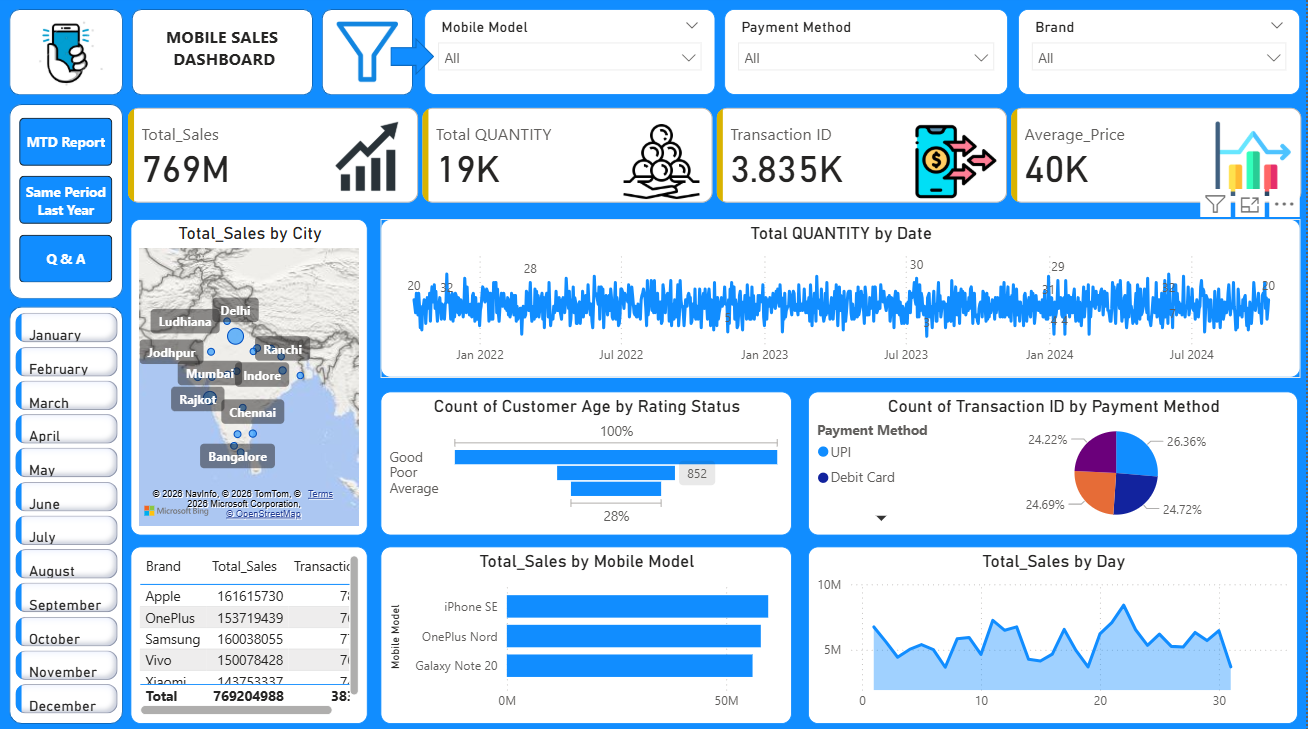

Layout of this report page (visuals, bound fields, positions):
{"tool":"powerbi","page":{"name":"Dashboard","canvas":[1280,720],"ordinal":0},"visuals":[{"type":"shape","box":[11,9.8,111.3,84.4],"z":0},{"type":"image","box":[20.8,9.8,91.7,91.7],"z":1000},{"type":"shape","box":[11,102.7,111.3,190.8],"z":2000},{"type":"shape","box":[11,300.8,111.3,408.4],"z":3000},{"type":"advancedSlicerVisual","fields":{"Values":["Custom Calender.Date.Variation.Date Hierarchy.Month"]},"box":[12.2,302,110.1,407.2],"z":4000},{"type":"cardVisual","fields":{"Data":["Sales_Data.Total_Sales","Sales_Data.Total QUANTITY","CountNonNull(Sales_Data.Transaction ID)","Sales_Data.Average_Price"]},"box":[122.3,101.5,1158,103.9],"z":5000},{"type":"slicer","fields":{"Values":["Sales_Data.Mobile Model"]},"box":[417,9.8,284.9,84.4],"z":6000},{"type":"slicer","fields":{"Values":["Sales_Data.Brand"]},"box":[997.8,9.8,276.4,84.4],"z":7000},{"type":"slicer","fields":{"Values":["Sales_Data.Payment Method"]},"box":[710.5,9.8,277.6,84.4],"z":8000},{"type":"shape","box":[316.7,9.8,89.3,84.4],"z":9000},{"type":"image","box":[326.5,0,69.7,102.7],"z":10000},{"type":"shape","box":[384,37.9,42.8,36.7],"z":11000},{"type":"shape","box":[130.8,9.8,177.3,84.4],"z":12000},{"type":"textbox","box":[144.3,20.8,154.1,64.8],"z":13000},{"type":"map","fields":{"Category":["Sales_Data.City"],"Size":["Sales_Data.Total_Sales"]},"box":[129.6,215.2,232.3,309.4],"z":14000},{"type":"lineChart","fields":{"Y":["Sales_Data.Total QUANTITY"],"Category":["Sales_Data.Date"]},"box":[374.2,215.2,900,155.3],"z":15000},{"type":"funnel","fields":{"Y":["CountNonNull(Sales_Data.Customer Age)"],"Category":["Sales_Data.Rating Status"]},"box":[374.2,384,402.3,140.6],"z":16000},{"type":"pieChart","fields":{"Y":["CountNonNull(Sales_Data.Transaction ID)"],"Category":["Sales_Data.Payment Method"]},"box":[792.4,384,479.4,140.6],"z":17000},{"type":"clusteredBarChart","fields":{"Y":["Sales_Data.Total_Sales"],"Category":["Sales_Data.Mobile Model"]},"box":[374.2,535.6,402.3,173.6],"z":18000},{"type":"areaChart","fields":{"Y":["Sales_Data.Total_Sales"],"Category":["Custom Calender.Date.Variation.Date Hierarchy.Day"]},"box":[792.4,535.6,479.4,173.6],"z":19000},{"type":"tableEx","fields":{"Values":["Sales_Data.Brand","Sales_Data.Total_Sales","CountNonNull(Sales_Data.Transaction ID)"]},"box":[129.6,535.6,232.3,173.6],"z":20000},{"type":"pageNavigator","box":[20.8,116.2,91.7,163.9],"z":20001}]}

Visuals, with their boxes in screenshot pixels (x1, y1, x2, y2), scaled from the page's 1280x720 canvas onto the 1308x729 screenshot:
shape: [x1=11, y1=10, x2=125, y2=95]
image: [x1=21, y1=10, x2=115, y2=103]
shape: [x1=11, y1=104, x2=125, y2=297]
shape: [x1=11, y1=305, x2=125, y2=718]
advancedSlicerVisual - Custom Calender.Date.Variation.Date Hierarchy.Month: [x1=12, y1=306, x2=125, y2=718]
cardVisual - Sales_Data.Total_Sales x Sales_Data.Total QUANTITY: [x1=125, y1=103, x2=1307, y2=208]
slicer - Sales_Data.Mobile Model: [x1=426, y1=10, x2=717, y2=95]
slicer - Sales_Data.Brand: [x1=1020, y1=10, x2=1302, y2=95]
slicer - Sales_Data.Payment Method: [x1=726, y1=10, x2=1010, y2=95]
shape: [x1=324, y1=10, x2=415, y2=95]
image: [x1=334, y1=0, x2=405, y2=104]
shape: [x1=392, y1=38, x2=436, y2=76]
shape: [x1=134, y1=10, x2=315, y2=95]
textbox: [x1=147, y1=21, x2=305, y2=87]
map - Sales_Data.City x Sales_Data.Total_Sales: [x1=132, y1=218, x2=370, y2=531]
lineChart - Sales_Data.Total QUANTITY x Sales_Data.Date: [x1=382, y1=218, x2=1302, y2=375]
funnel - CountNonNull(Sales_Data.Customer Age) x Sales_Data.Rating Status: [x1=382, y1=389, x2=793, y2=531]
pieChart - CountNonNull(Sales_Data.Transaction ID) x Sales_Data.Payment Method: [x1=810, y1=389, x2=1300, y2=531]
clusteredBarChart - Sales_Data.Total_Sales x Sales_Data.Mobile Model: [x1=382, y1=542, x2=793, y2=718]
areaChart - Sales_Data.Total_Sales x Custom Calender.Date.Variation.Date Hierarchy.Day: [x1=810, y1=542, x2=1300, y2=718]
tableEx - Sales_Data.Brand x Sales_Data.Total_Sales: [x1=132, y1=542, x2=370, y2=718]
pageNavigator: [x1=21, y1=118, x2=115, y2=284]
